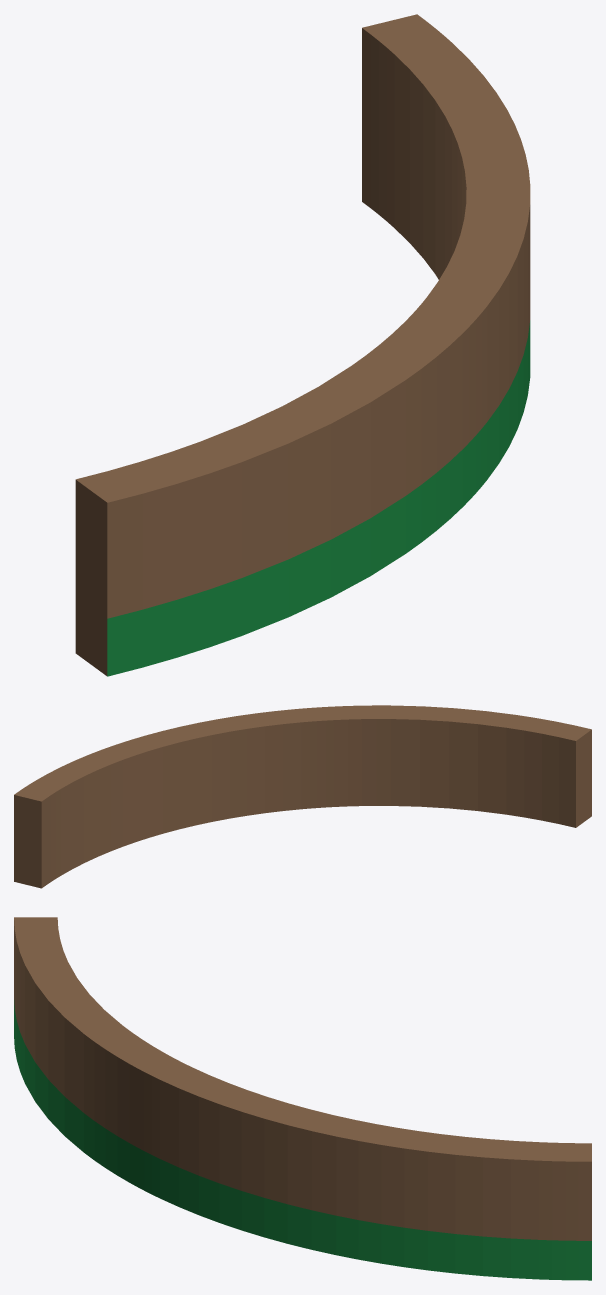
The model's file is CourseCurve.fbx.
The picture shows the model from 3 angles, top to bottom: view 1: azimuth 30°, elevation 25°; view 2: azimuth 150°, elevation 25°; view 3: azimuth 270°, elevation 25°; orthographic projection. The views are drawn at different scales.
Parts seen in each view (by area): view 1: Cube.007; view 2: Cube.007; view 3: Cube.007.
Boxes of the visible parts, x1,y1,x2,y2 form: Cube.007: [75, 14, 530, 676]; Cube.007: [14, 705, 591, 888]; Cube.007: [14, 917, 591, 1280].
Bounding box in the file's own units: 119 × 27 × 119.
